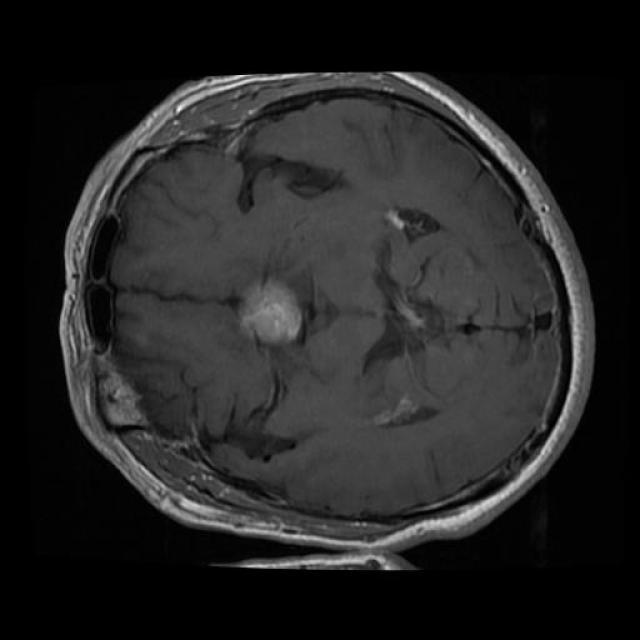Pituitary: (238, 275, 307, 346)
